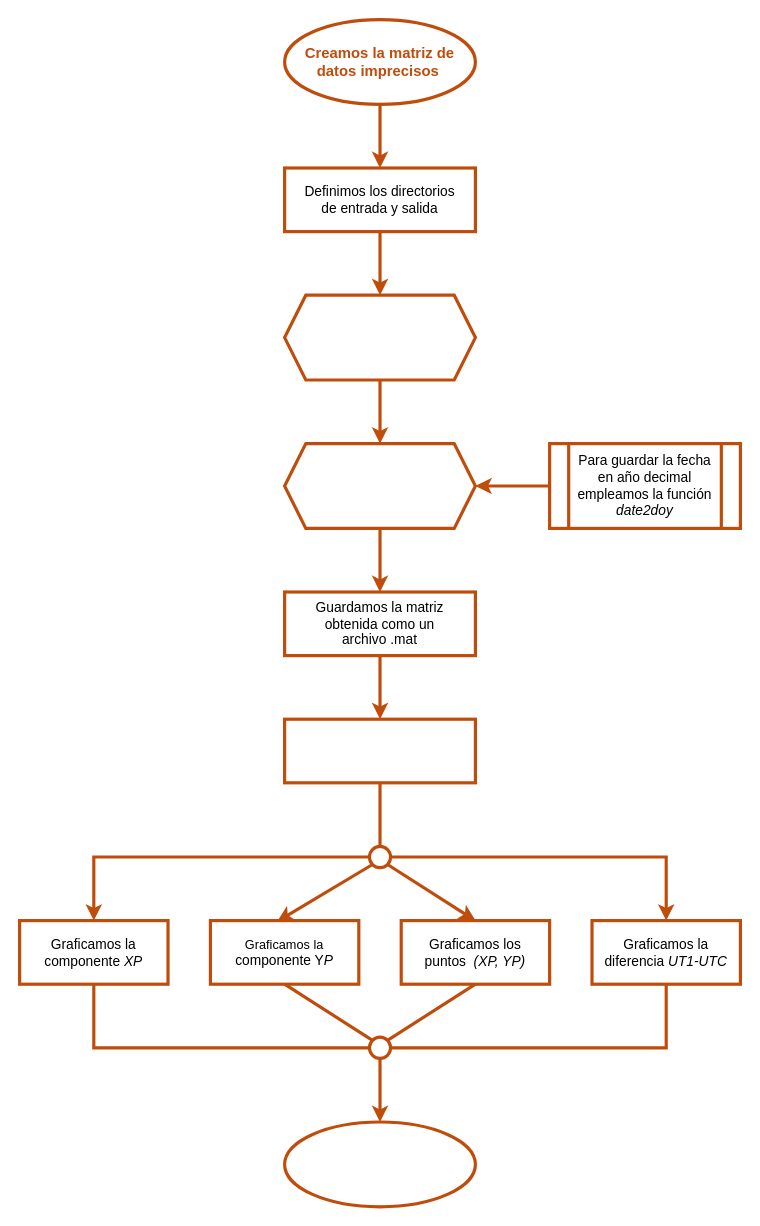
Image size: 760x1226. Some labels were removed from this diagram. Here are the shapes that lost their labels. From the top down, the centre of each, then its label:
(379,337): Abrimos el archivo y saltamos cabecera
(379,485): Leemos y almacenamos los datos en el tipo adecuado hasta el final del documento
(379,750): Graficamos los datos de la matriz
(379,1164): Análisis de las figuras
